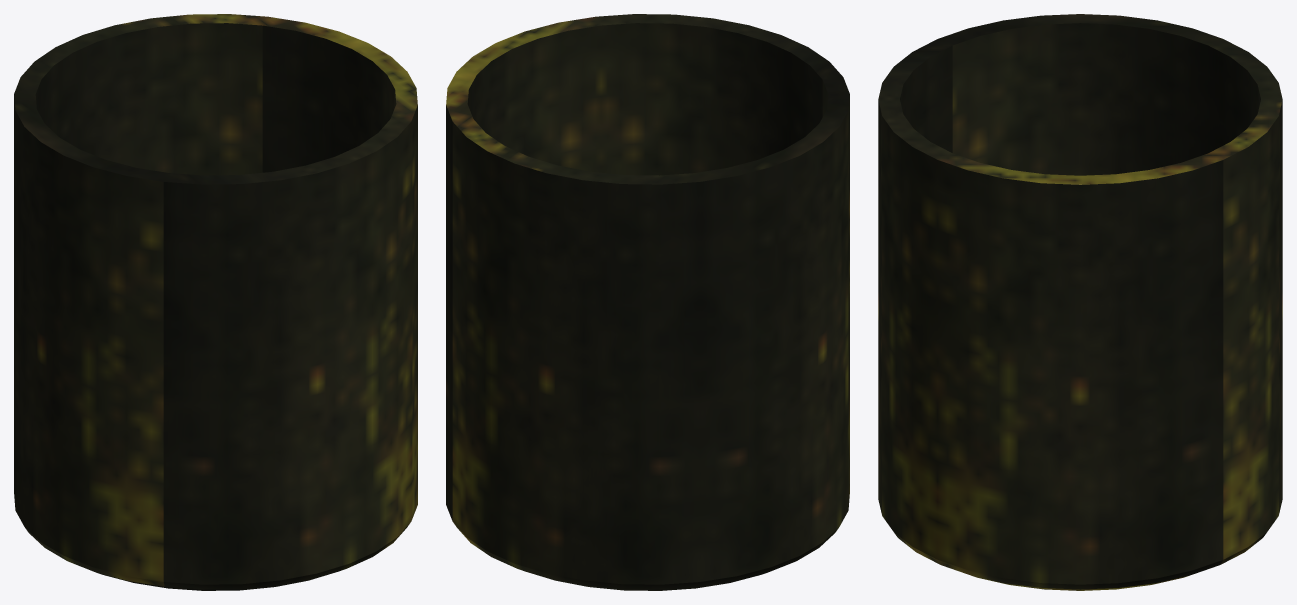
Rendered from cup.fbx.
The picture shows the model from 3 angles, left to right: view 1: azimuth 30°, elevation 25°; view 2: azimuth 150°, elevation 25°; view 3: azimuth 270°, elevation 25°; orthographic projection.
Parts seen in each view (by area): view 1: Cup; view 2: Cup; view 3: Cup.
Part boxes in pixels (left/top/right/bottom): Cup: left=14, top=14, right=417, bottom=590; Cup: left=446, top=14, right=849, bottom=590; Cup: left=878, top=14, right=1282, bottom=590.
Size of the model in its own units: 12.83 by 14.47 by 12.83.
1 material, 1 textured.
